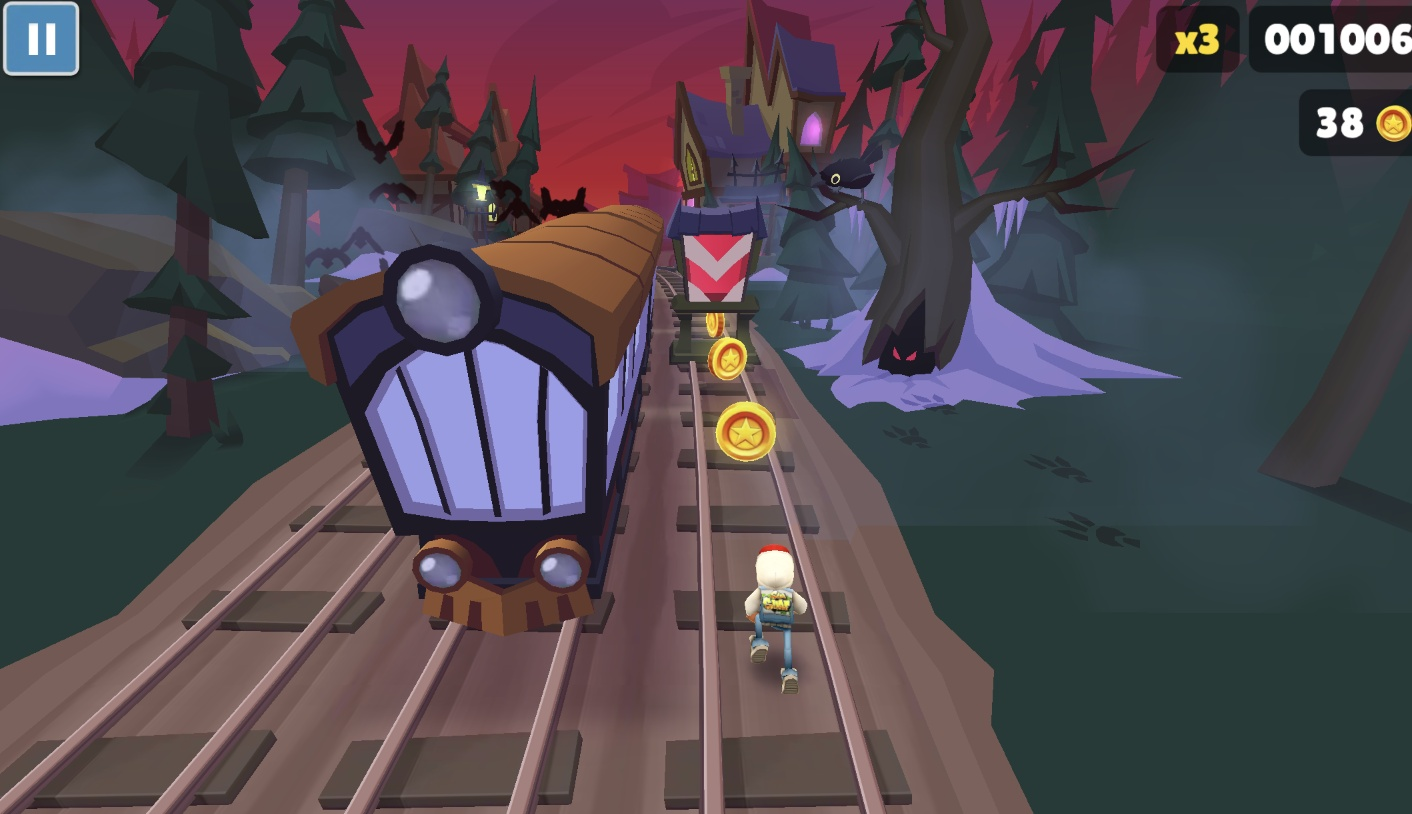overhead_barrier: (666, 202, 768, 366)
train: (289, 204, 664, 637)
